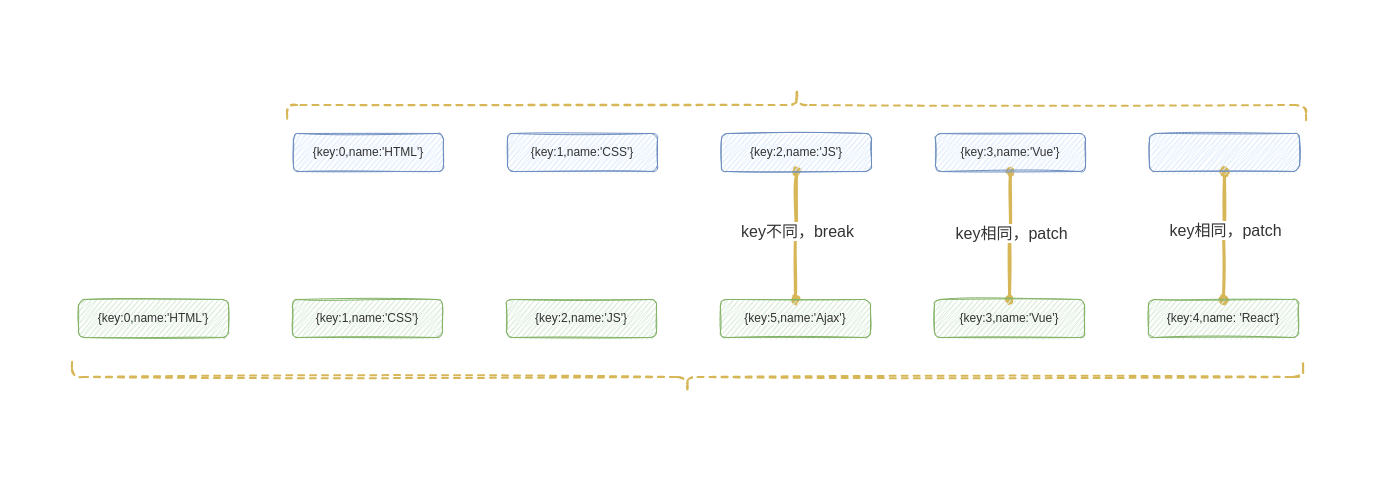
Some shapes in this 1400 by 483 pixel diagram are drawn without their labels. Here are the shapes that lost their labels. From the top down, the centre of each, then its label:
At (796,104): "old VDOM".
At (1224,152): "{ key :4,name:'React' }".
At (687,376): "new VDOM".
